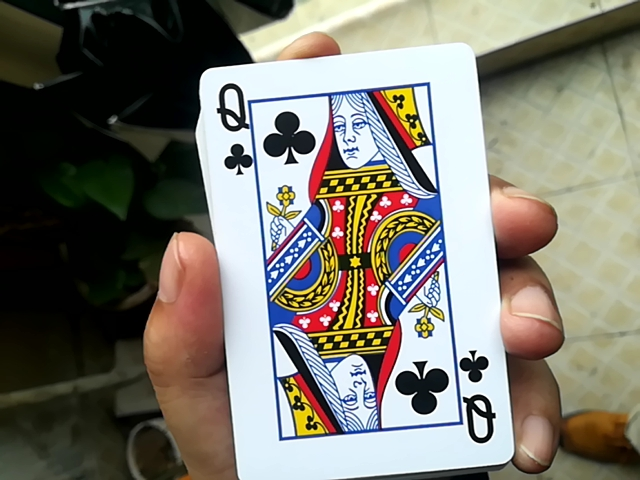mh q: (192, 47, 527, 476)
